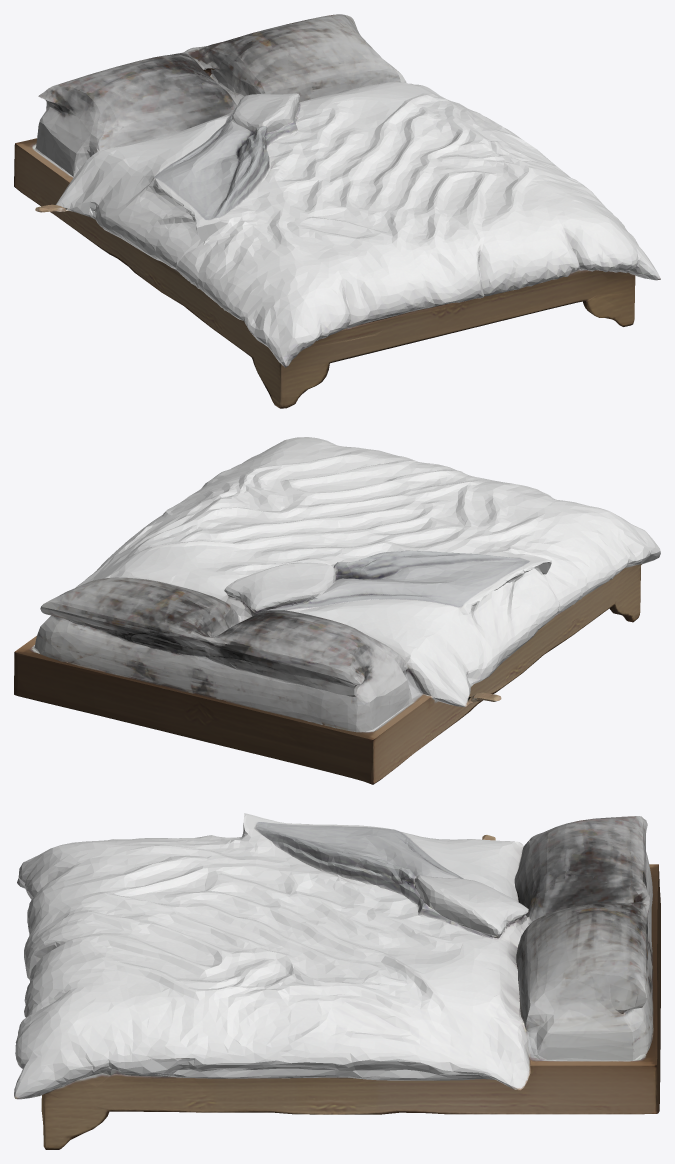
Rendered from Double Bed.glb.
3 renders of one model, top to bottom at view 1: azimuth 30°, elevation 25°; view 2: azimuth 150°, elevation 25°; view 3: azimuth 270°, elevation 25°, orthographic. The views are drawn at different scales.
Visible parts, largest first — view 1: world; view 2: world; view 3: world.
Part boxes in pixels (bbox=[...]): world: bbox=[14, 14, 660, 408]; world: bbox=[14, 437, 660, 784]; world: bbox=[14, 813, 660, 1149].
Bounding box in the file's own units: 0.891 × 0.288 × 1.
Materials: 1 (1 with a texture image).
